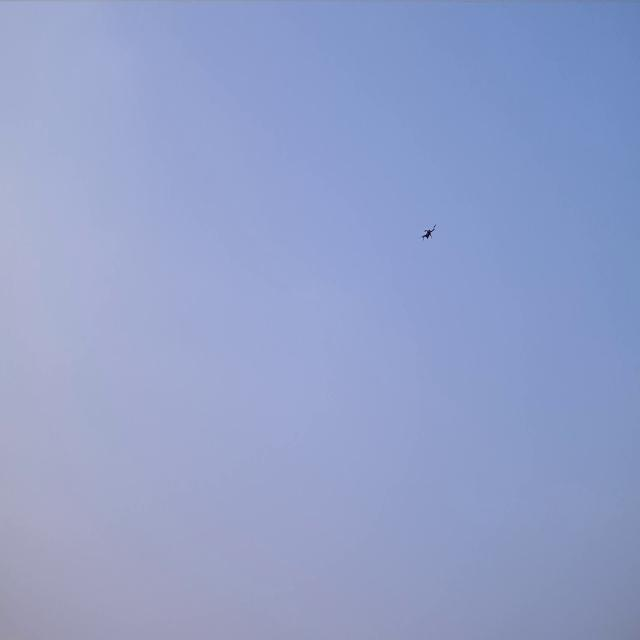UAV: (418, 221, 437, 242)
